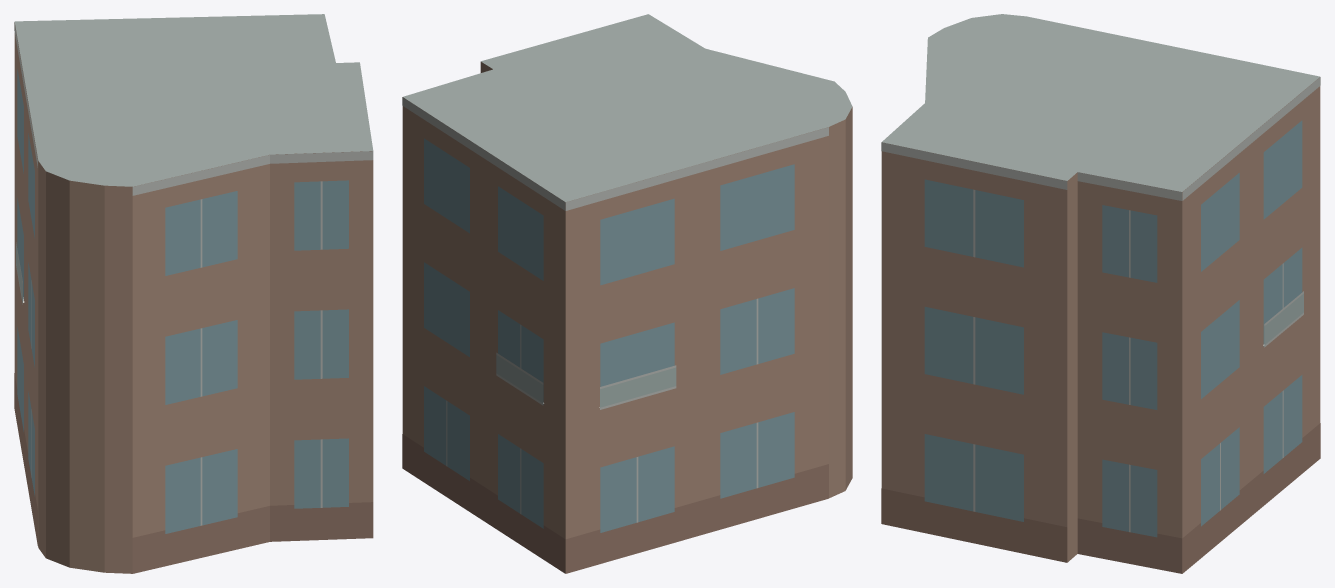
Rendered from survey-upis-32495505.glb.
3 renders of one model, left to right at view 1: azimuth 30°, elevation 25°; view 2: azimuth 150°, elevation 25°; view 3: azimuth 270°, elevation 25°, orthographic. The views are drawn at different scales.
Parts seen in each view (by area): view 1: survey-upis-32495505.tmp; view 2: survey-upis-32495505.tmp; view 3: survey-upis-32495505.tmp.
Boxes of the visible parts, x1,y1,x2,y2 form: survey-upis-32495505.tmp: (14,14,373,573); survey-upis-32495505.tmp: (402,14,852,573); survey-upis-32495505.tmp: (881,14,1320,573).
Size of the model in its own units: 10.31 by 10.3 by 10.74.
